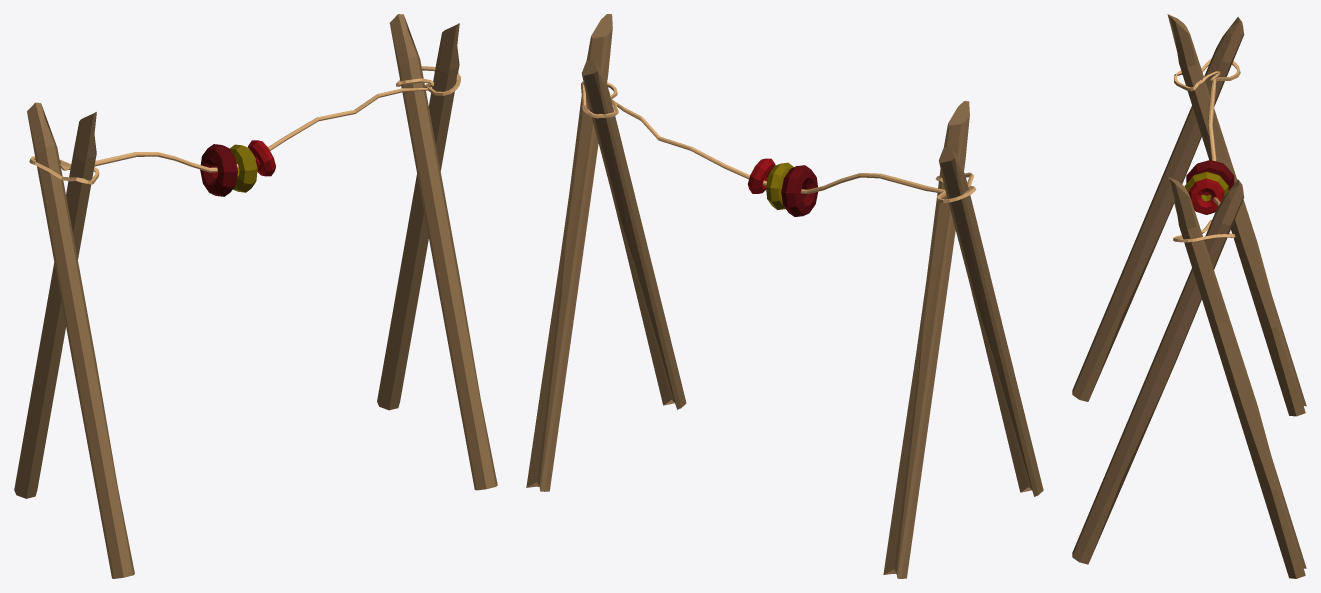
File: rack.fbx
3 renders of one model, left to right at view 1: azimuth 30°, elevation 25°; view 2: azimuth 150°, elevation 25°; view 3: azimuth 270°, elevation 25°, orthographic. The views are drawn at different scales.
Visible parts, largest first — view 1: Cylinder.091, Cylinder.089, Cylinder.090, Cylinder.088, Torus, Cylinder.092, Torus.002, Torus.013; view 2: Cylinder.090, Cylinder.088, Cylinder.089, Cylinder.091, Cylinder.092, Torus, Torus.002; view 3: Cylinder.088, Cylinder.089, Cylinder.091, Cylinder.090, Torus.013, Torus, BezierCurve.003, Cylinder.092, Torus.002.
Boxes of the visible parts, x1=… form: Cylinder.091: x1=27, y1=102, x2=134, y2=578; Cylinder.089: x1=389, y1=14, x2=497, y2=490; Cylinder.090: x1=14, y1=112, x2=96, y2=498; Cylinder.088: x1=377, y1=23, x2=459, y2=410; Torus: x1=200, y1=144, x2=237, y2=196; Cylinder.092: x1=62, y1=88, x2=428, y2=172; Torus.002: x1=229, y1=144, x2=257, y2=192; Torus.013: x1=248, y1=140, x2=275, y2=176; Cylinder.090: x1=883, y1=101, x2=969, y2=578; Cylinder.088: x1=526, y1=14, x2=612, y2=491; Cylinder.089: x1=581, y1=59, x2=686, y2=409; Cylinder.091: x1=939, y1=146, x2=1043, y2=496; Cylinder.092: x1=615, y1=102, x2=945, y2=193; Torus: x1=781, y1=165, x2=817, y2=216; Torus.002: x1=766, y1=162, x2=793, y2=209; Cylinder.088: x1=1167, y1=177, x2=1306, y2=578; Cylinder.089: x1=1072, y1=179, x2=1243, y2=564; Cylinder.091: x1=1072, y1=17, x2=1244, y2=401; Cylinder.090: x1=1167, y1=14, x2=1306, y2=416; Torus.013: x1=1189, y1=178, x2=1224, y2=214; Torus: x1=1186, y1=160, x2=1234, y2=195; BezierCurve.003: x1=1174, y1=58, x2=1240, y2=91; Cylinder.092: x1=1202, y1=79, x2=1220, y2=233; Torus.002: x1=1184, y1=171, x2=1228, y2=201.
Size of the model in its own units: 409 by 411 by 220.
